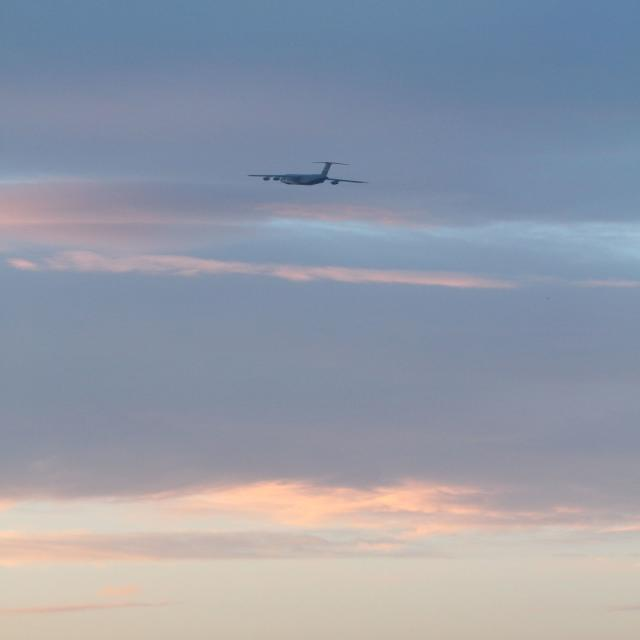MIL_Plane: (201, 164, 326, 183)
